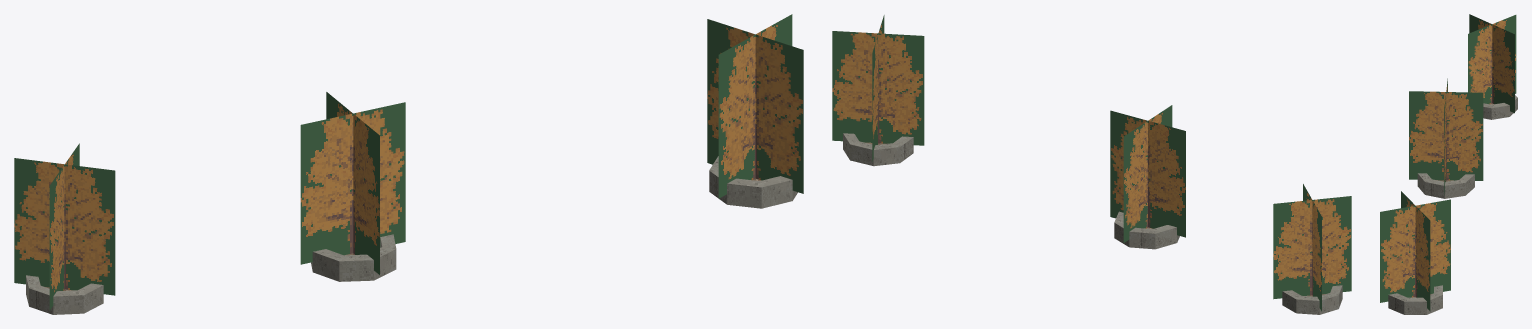
Rendered from procgen-procpain-tree-park-large-xm1z2.obj.
3 views of the same model, side by side, from view 1: azimuth 30°, elevation 25°; view 2: azimuth 150°, elevation 25°; view 3: azimuth 270°, elevation 25° (orthographic). The views are drawn at different scales.
Size of the model in its own units: 34.85 by 7.22 by 9.21.
